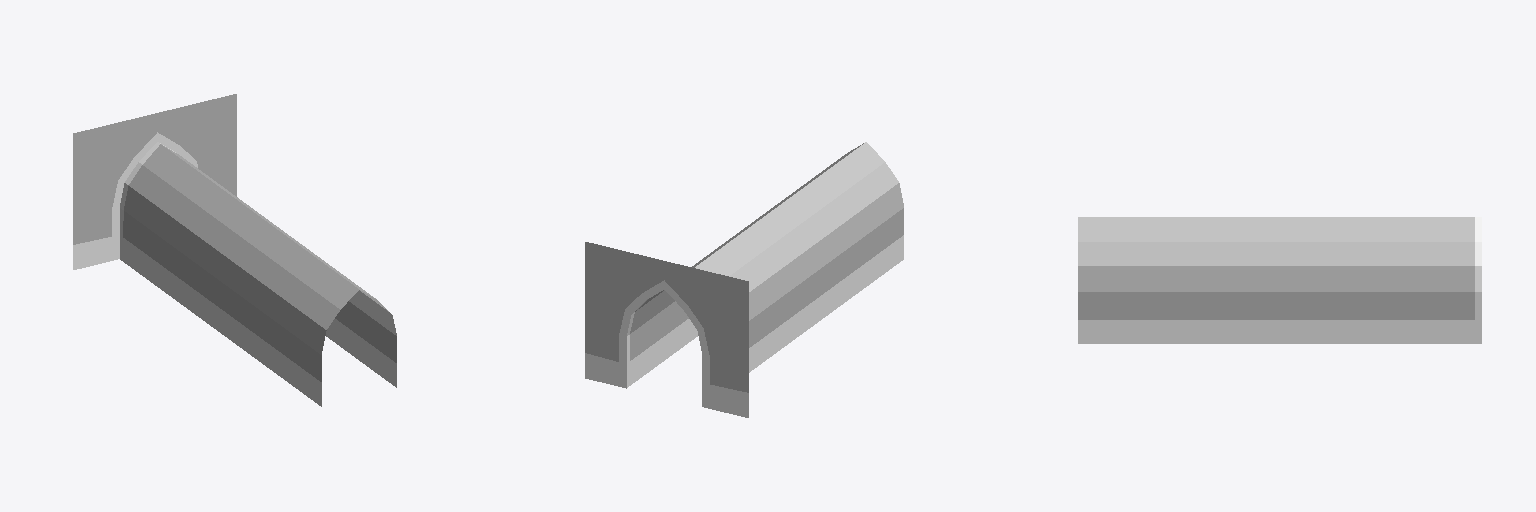
Rendered from ArchWall_02.obj.
The picture shows the model from 3 angles: view 1: azimuth 30°, elevation 25°; view 2: azimuth 150°, elevation 25°; view 3: azimuth 270°, elevation 25°; orthographic projection.
Parts seen in each view (by area): view 1: Arch__32__Scene.003; view 2: Arch__32__Scene.003; view 3: Arch__32__Scene.003.
Part boxes in pixels (left/top/right/bottom): Arch__32__Scene.003: left=73, top=94, right=396, bottom=406; Arch__32__Scene.003: left=585, top=142, right=903, bottom=417; Arch__32__Scene.003: left=1078, top=217, right=1481, bottom=343.
Bounding box in the file's own units: 8.75 × 7 × 18.71.